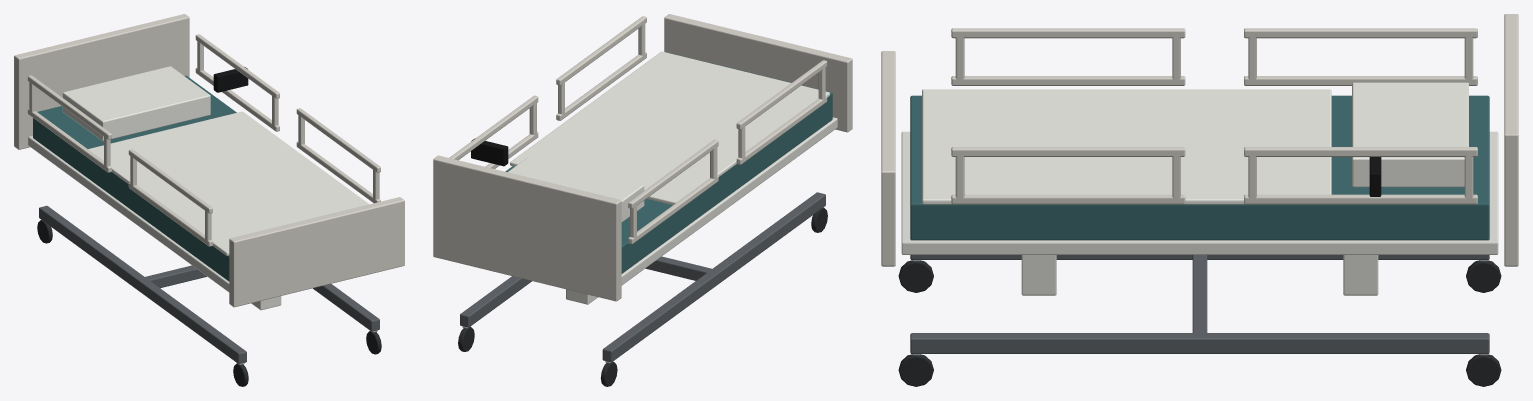
Rendered from PROP_Bed_Hospital_Adjustable.glb.
3 views of the same model, side by side, from view 1: azimuth 30°, elevation 25°; view 2: azimuth 150°, elevation 25°; view 3: azimuth 270°, elevation 25° (orthographic). The views are drawn at different scales.
Visible parts, largest first — view 1: PROP_Bed_Hospital_Adjustable_Mesh; view 2: PROP_Bed_Hospital_Adjustable_Mesh; view 3: PROP_Bed_Hospital_Adjustable_Mesh.
Boxes of the visible parts, box(x1,y1,x2,y2) form: PROP_Bed_Hospital_Adjustable_Mesh: box(14, 14, 404, 386); PROP_Bed_Hospital_Adjustable_Mesh: box(433, 14, 852, 386); PROP_Bed_Hospital_Adjustable_Mesh: box(881, 14, 1518, 386).
Size of what is drawn, in the model's own units: 1.05 by 1 by 2.18.
